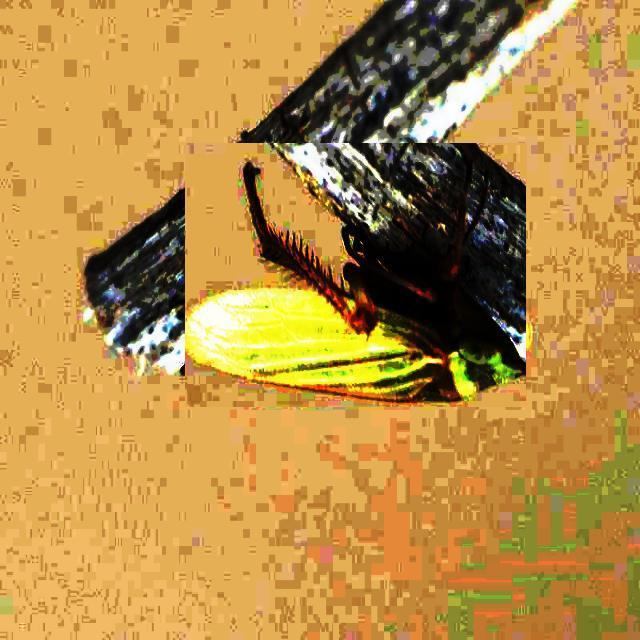green-leafhopper: (186, 143, 528, 407)
